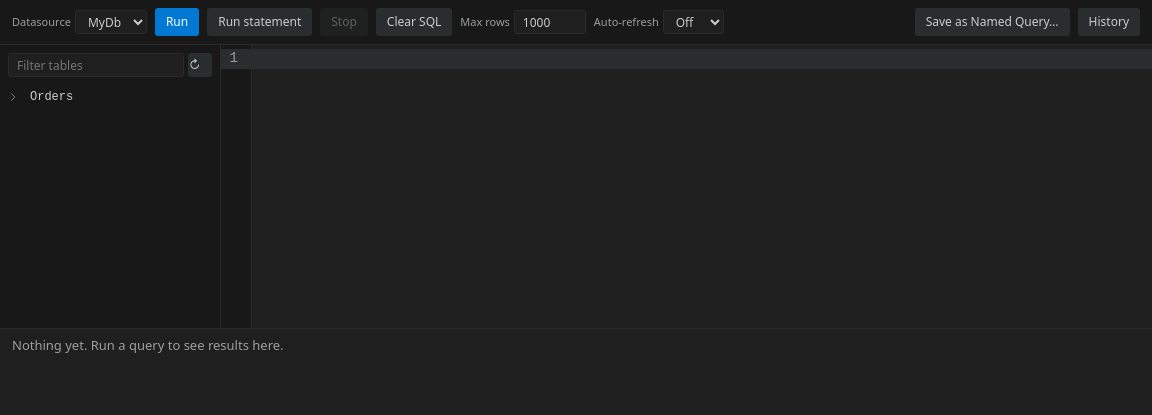
QueryBrowser › renders a failed run via Traceback, not as a thrown error
Double-click the button "Orders".
double_click(119, 97)  # box [22,85,216,109]
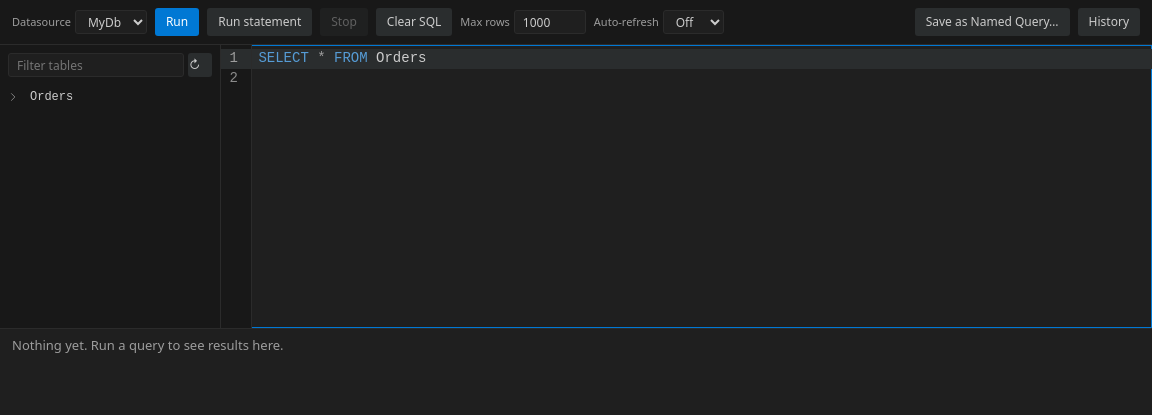
Click the button "Run".
click(177, 22)  # box [155,8,199,36]
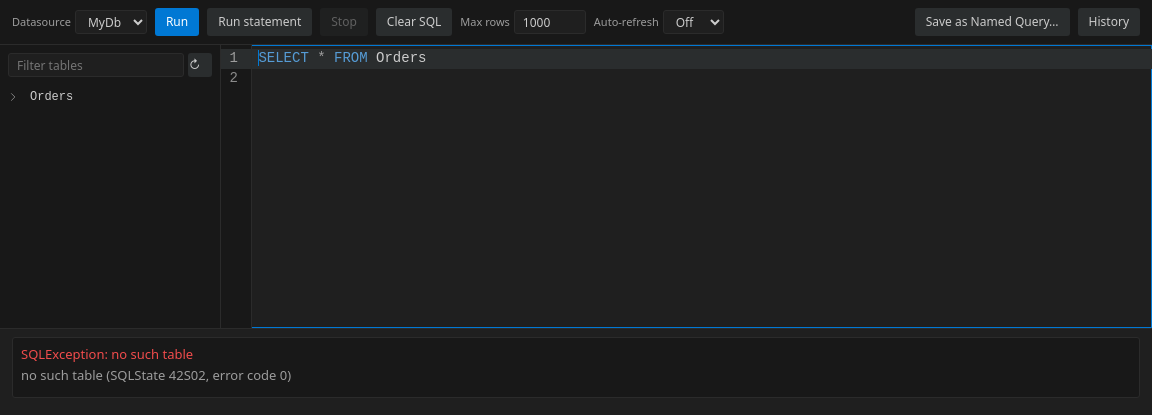
Result: the text "SQLException: no such table" is shown at [21,344,193,362]
